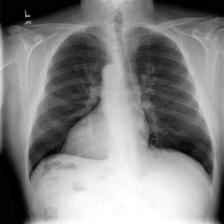normal: (24, 21, 219, 190)
